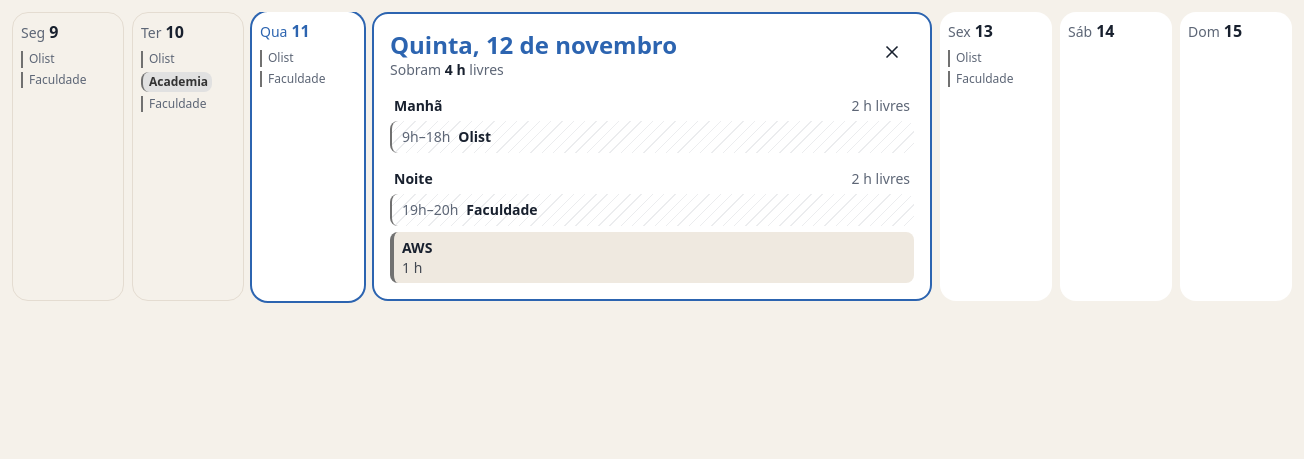
Test: WeekBoard: dia aberto › Esc fecha o dia, mas dentro da mudança de horário só cancela a mudança
The image size is (1304, 459).
Later steps or results of the test are not shown.
Click the button "9h–18h Olist".
click(652, 137)  # box [390,121,914,153]
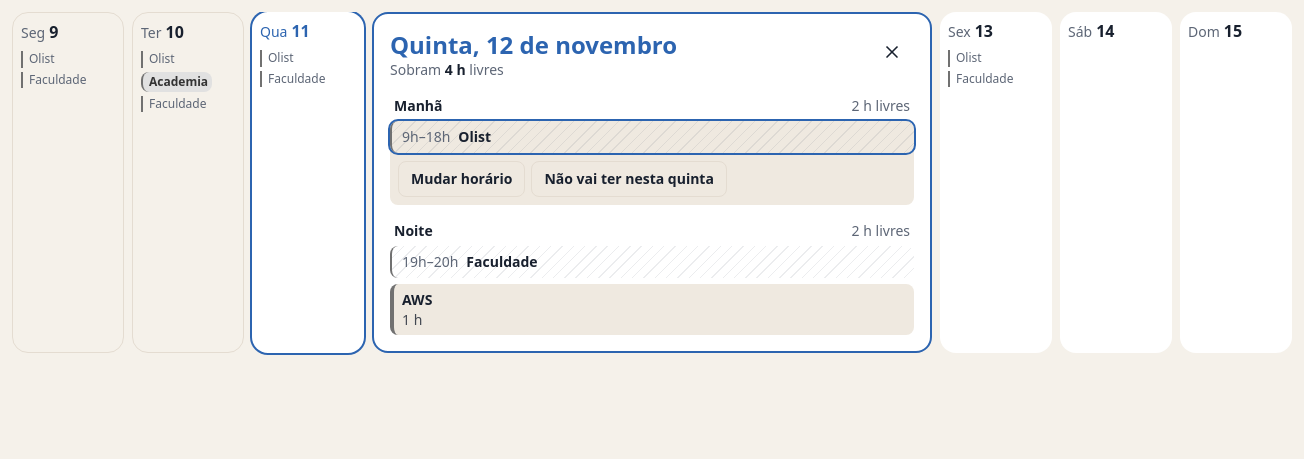
Click the button "Mudar horário".
click(462, 179)  # box [398,161,525,197]
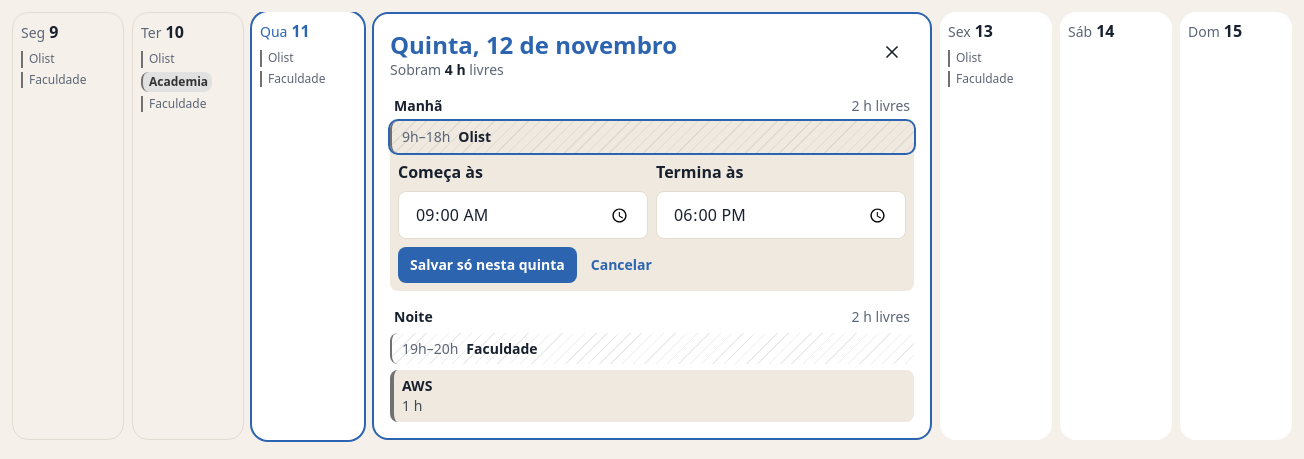
Press Escape in the time field labelled "Começa às", box [398,191,648,239]
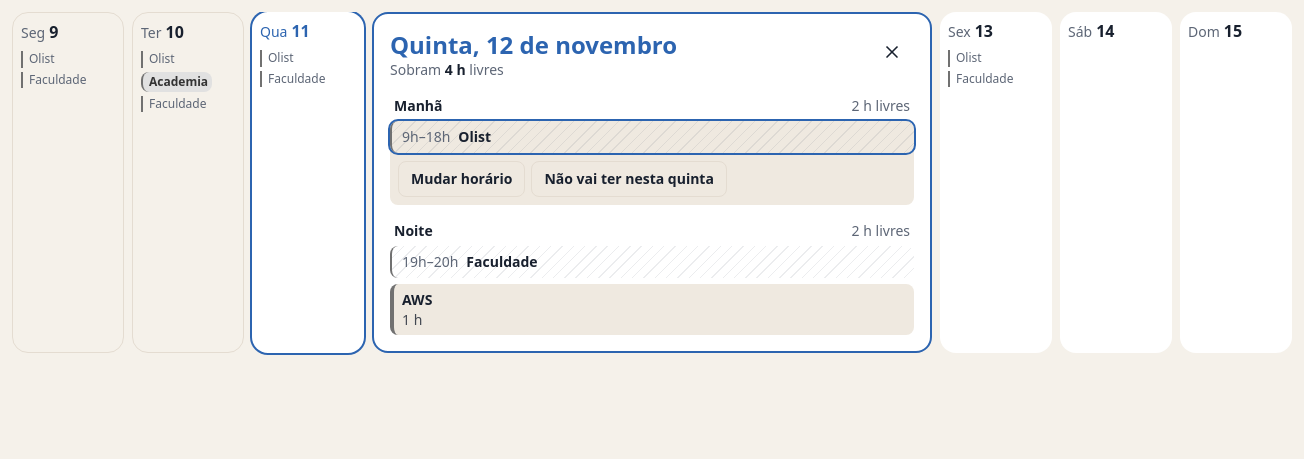
Check: the button "Mudar horário" is shown, box [398,161,525,197]
